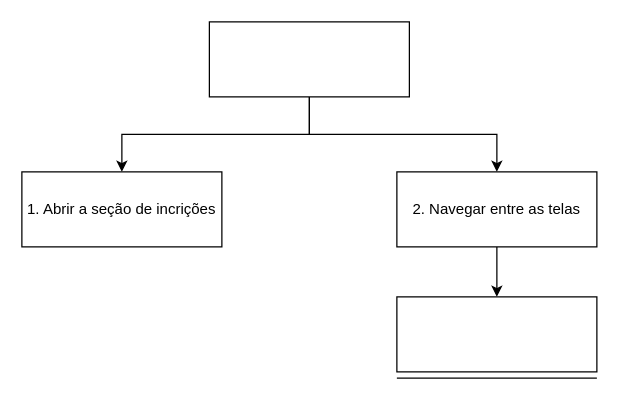
Image size: 619x406. Some labels were removed from this diagram. Here are the shapes that lost their labels. From the top down, the centre of each, then its label:
the point at 308,59: 0. Filtrar oportunidades 1>2
the point at 496,334: 2.1. Abertos e encerrados
